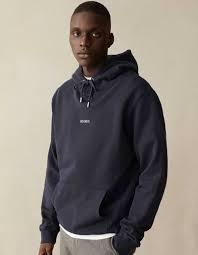hoodie: (36, 47, 171, 251)
